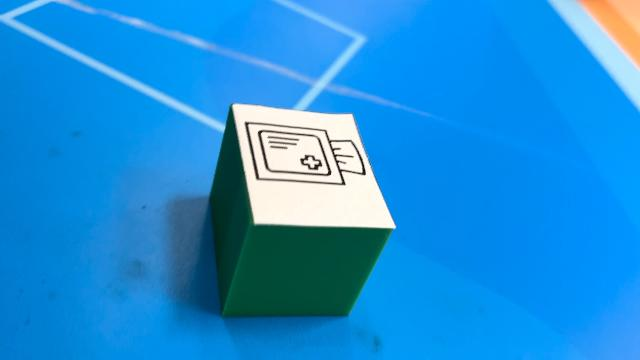napkin: (206, 105, 394, 318)
